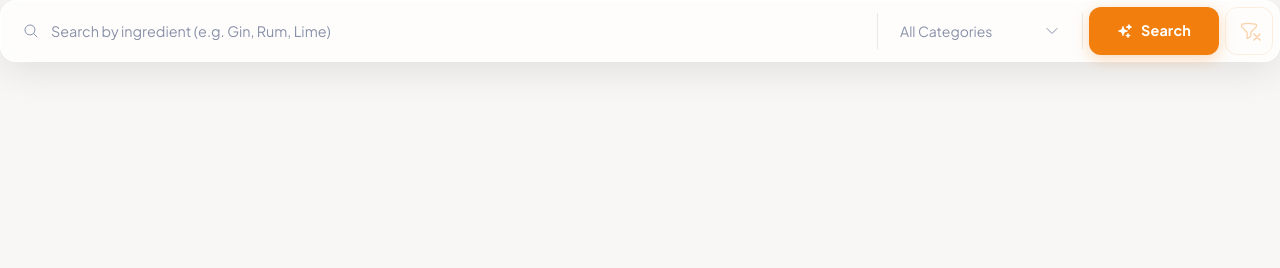
SearchForm › category dropdown › opens the listbox when the category button is clicked
What coordinates should you click on to do the following:
click the button "All Categories"
I would click on:
 (980, 31)
Its box is [884, 7, 1076, 55].
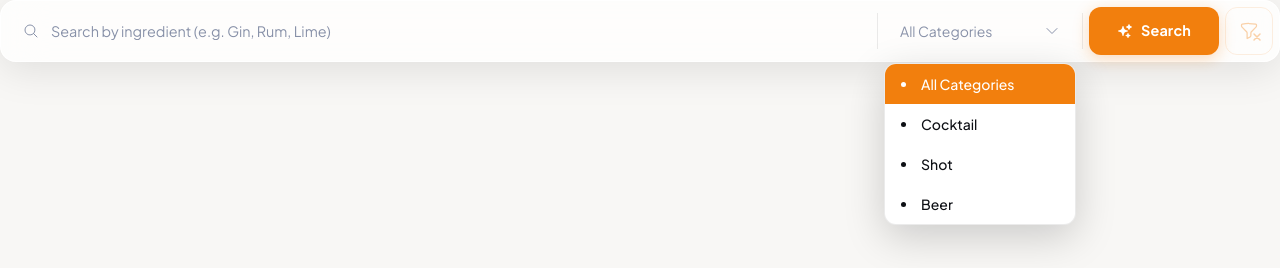
Result: the option "All Categories" is shown at [885, 64, 1075, 104]
